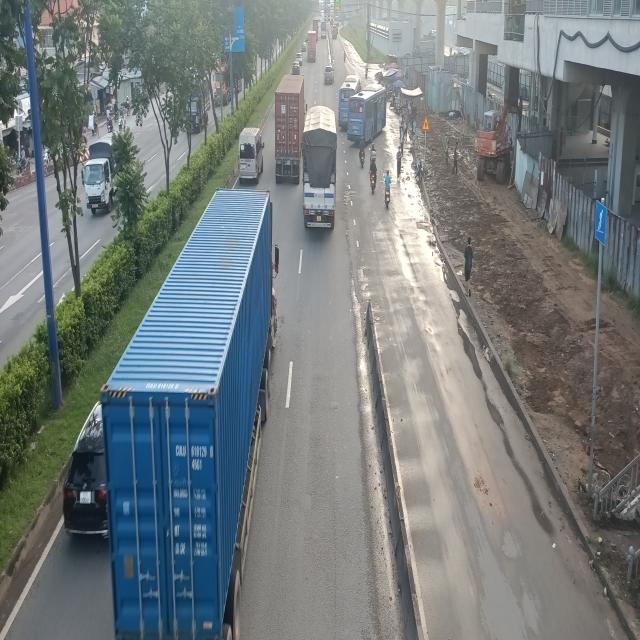coach: (346, 84, 388, 144), (338, 72, 359, 130)
container: (106, 190, 276, 638), (276, 75, 308, 185)
truck: (303, 106, 340, 230)
van: (238, 127, 266, 185)
